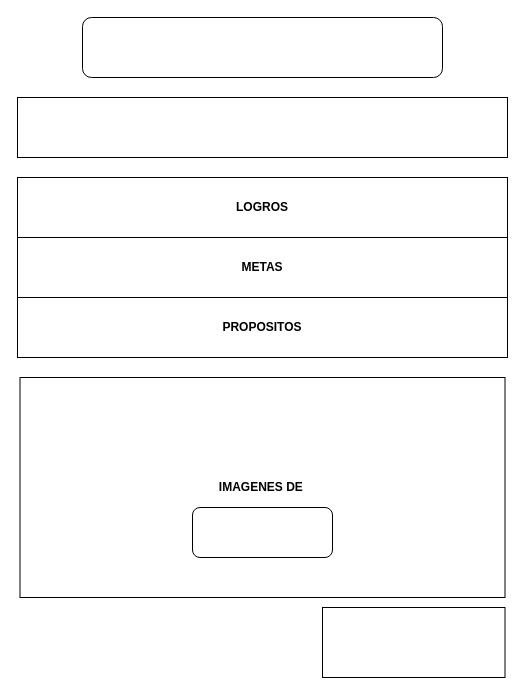
The diagram is 525 pixels wide and 695 high, and some of its shapes have lost their labels. The shapes that lost their labels are listed below. From the top down, each one's centre as x and y in pixels, then its label:
point 262,47: LOGROS Y METAS DE MI VIDA
point 262,532: LOGROS Y METAS - - - - - -
